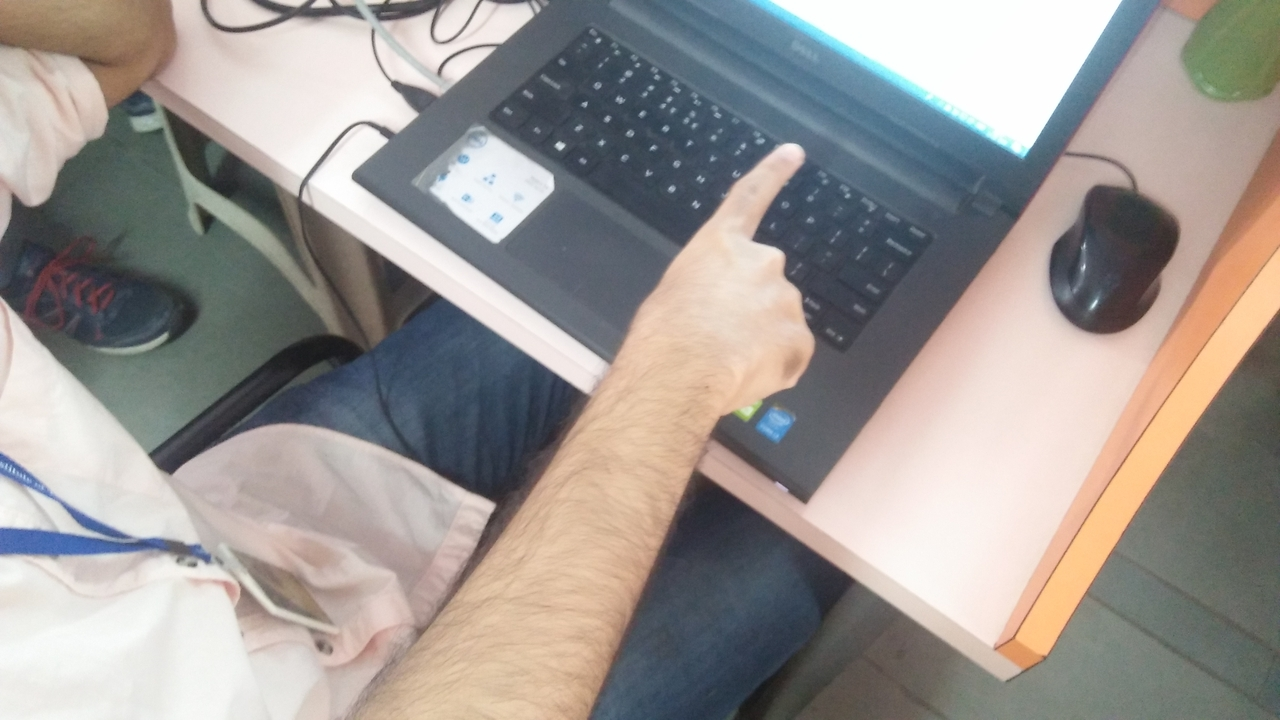fingertip: (742, 132, 808, 184)
